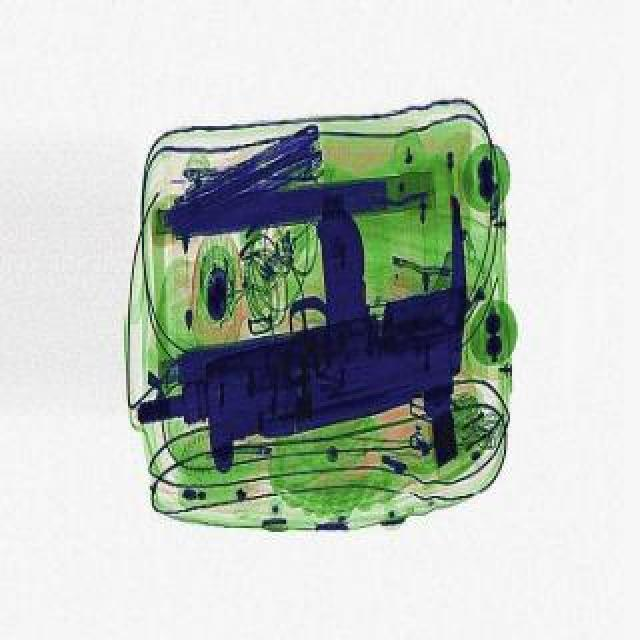gun: (136, 192, 468, 476)
